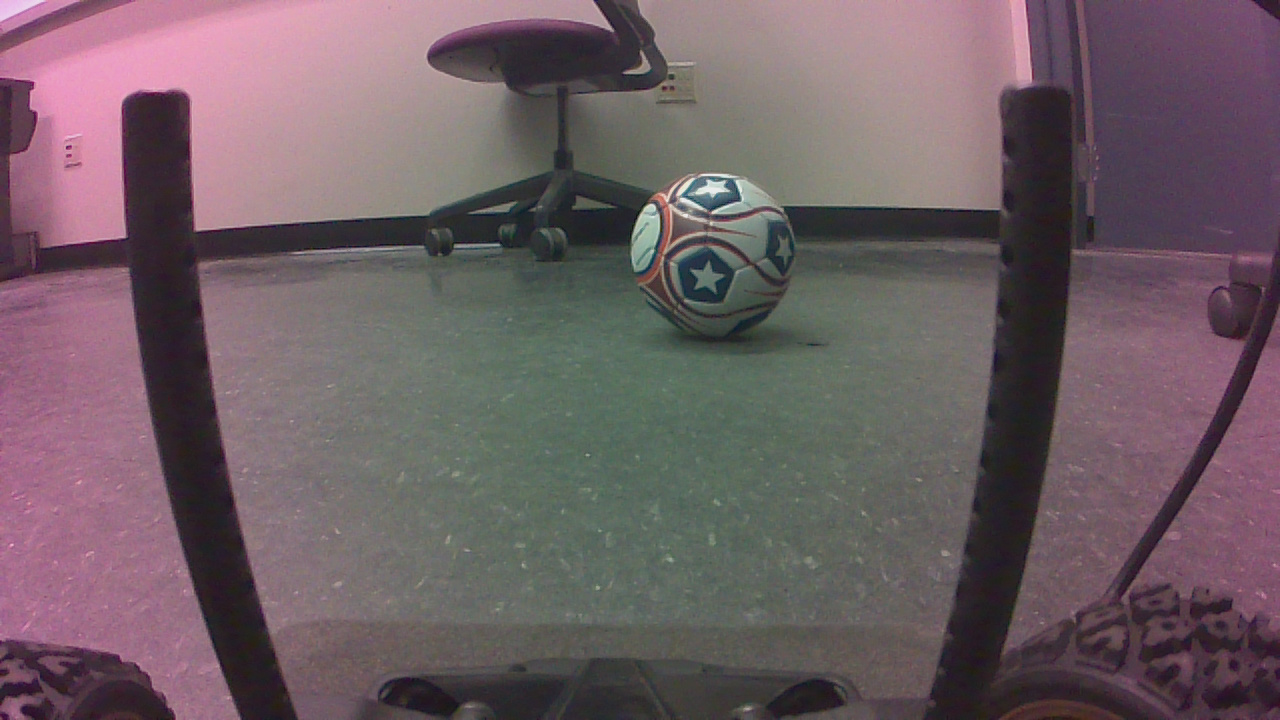ball: (631, 174, 807, 349)
